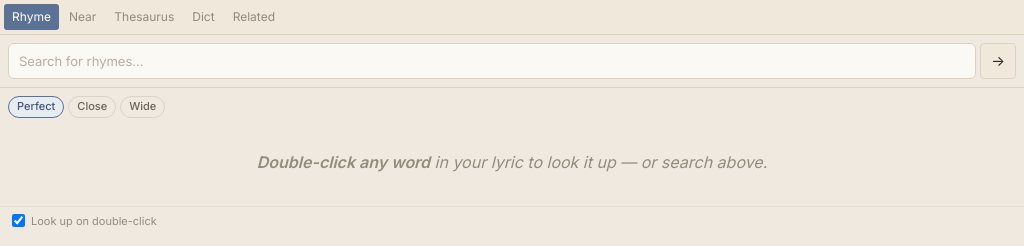
Test: Tools results "used" state (C-44) › T-14.22: a non-rhyme (generic) result already in the draft renders dimmed
This screenshot has width=1024, height=246.
Click the tab with test id "tools-tab-thesaurus" at (144, 17), box [106, 4, 182, 30]
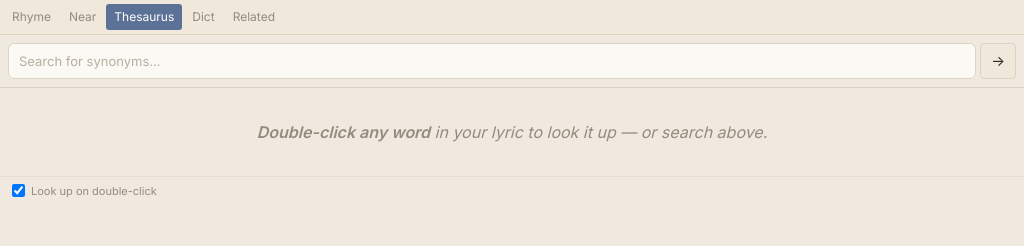
Type "star" into the field with test id "tools-search-input" at (492, 61), box [8, 43, 976, 79]
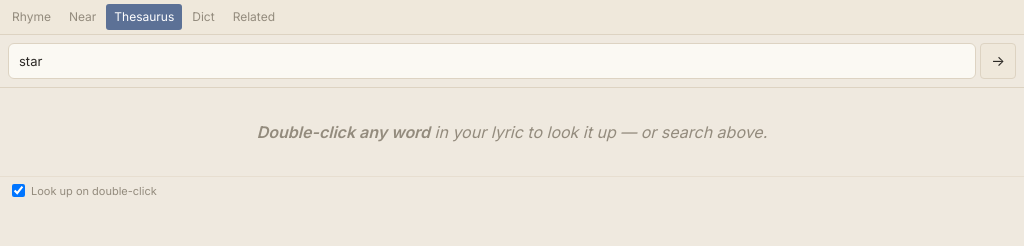
Click the button with test id "tools-search-button" at (998, 61), box [980, 43, 1016, 79]
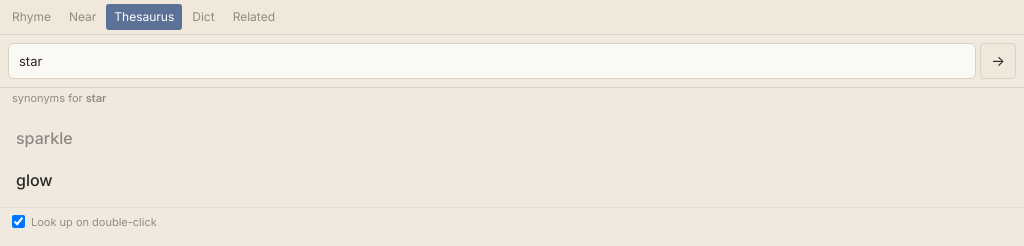
Check: the text "sparkle" is shown, box [16, 126, 73, 150]
